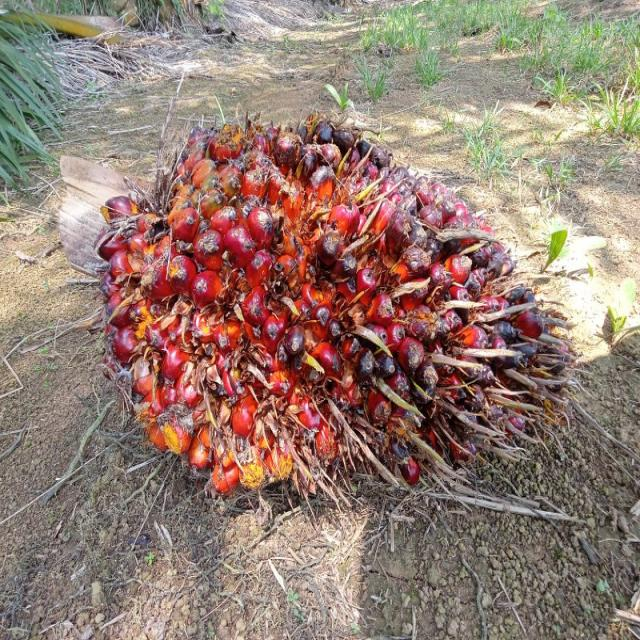fraksi 3: (63, 65, 589, 563)
